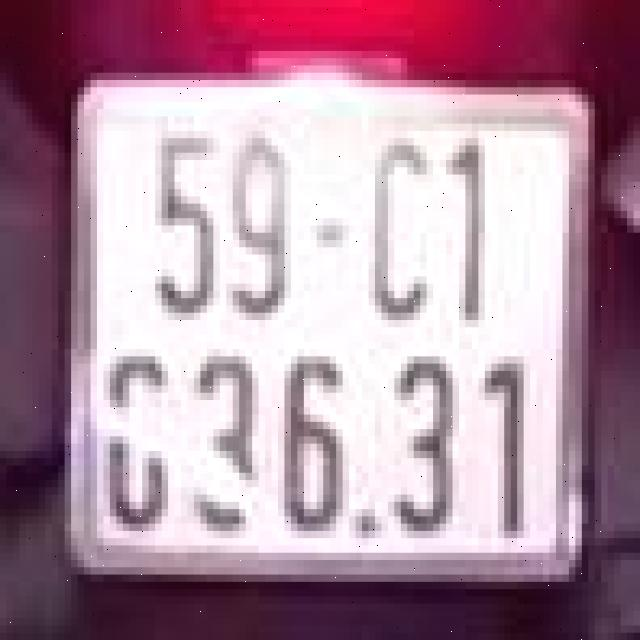1: (440, 131, 504, 342), (482, 346, 540, 534)
3: (388, 342, 459, 560), (191, 342, 262, 545)
5: (142, 113, 220, 316)
6: (275, 349, 352, 546), (100, 331, 172, 513)
9: (236, 116, 294, 328)
C: (368, 124, 439, 327)
